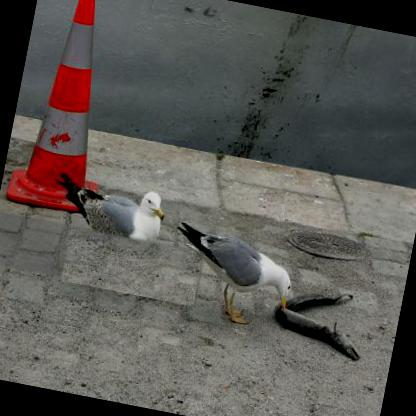cone: (7, 0, 137, 217)
